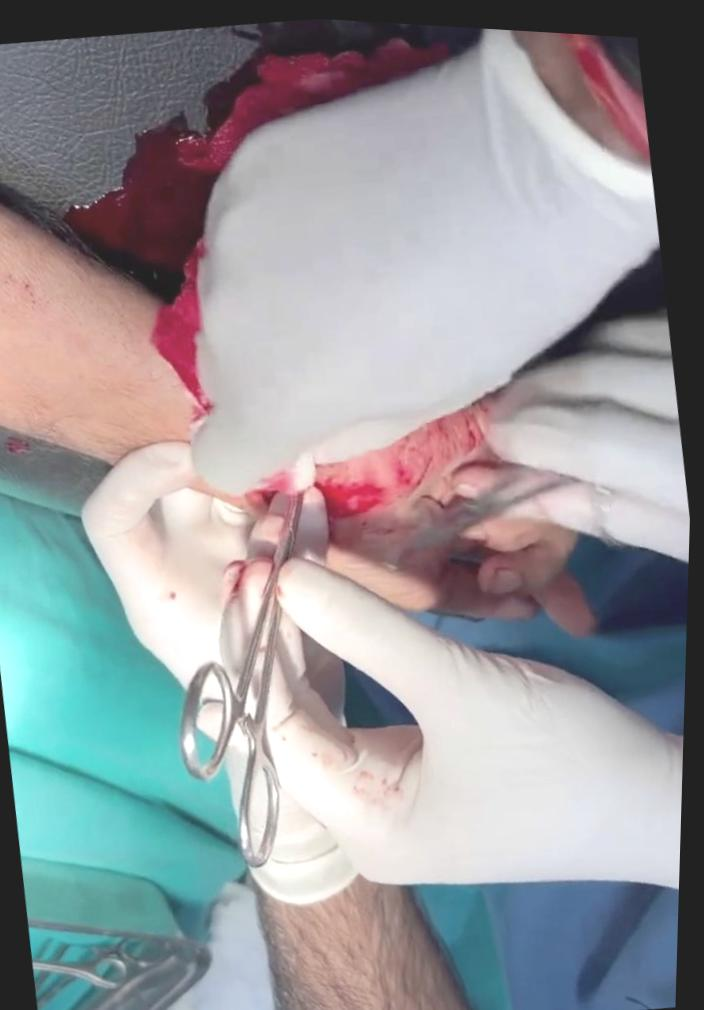Fire: (73, 15, 475, 274), (318, 388, 495, 540), (149, 235, 217, 416), (205, 453, 316, 514), (0, 438, 32, 453)
